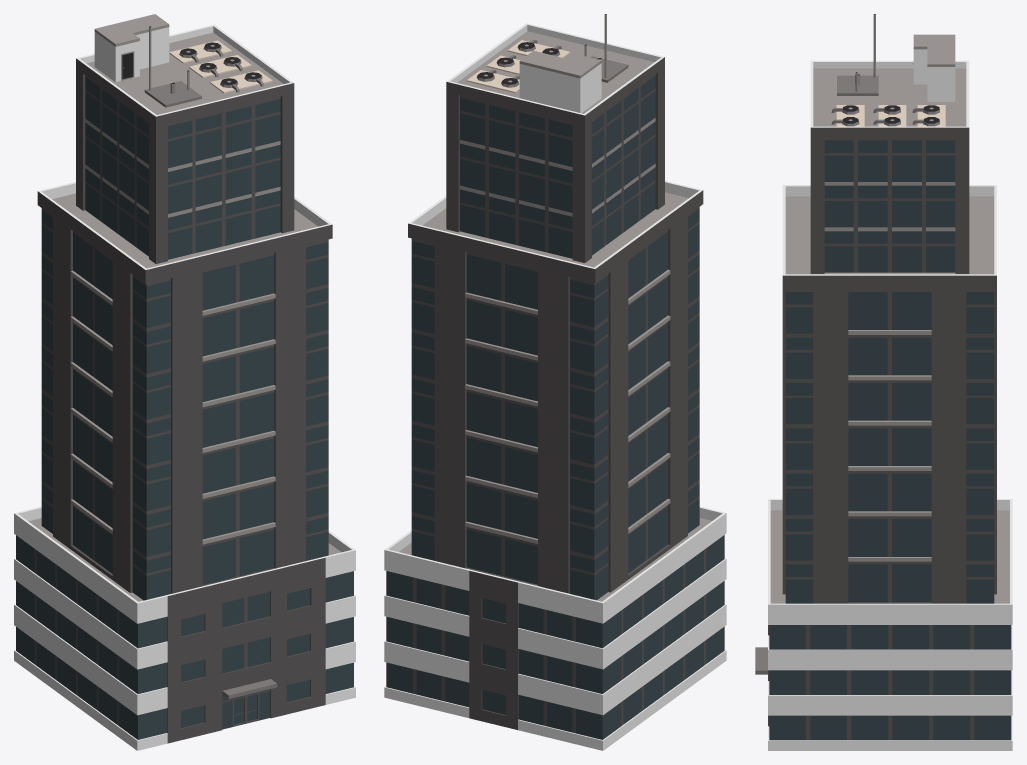
File: buildings_building-office-pyramid.fbx
3 renders of one model, left to right at view 1: azimuth 30°, elevation 25°; view 2: azimuth 150°, elevation 25°; view 3: azimuth 270°, elevation 25°, orthographic.
Parts seen in each view (by area): view 1: buildings_building_office_pyramid; view 2: buildings_building_office_pyramid; view 3: buildings_building_office_pyramid.
Boxes of the visible parts, box(x1,y1,x2,y2) form: buildings_building_office_pyramid: box(14, 14, 355, 750); buildings_building_office_pyramid: box(384, 14, 726, 750); buildings_building_office_pyramid: box(755, 14, 1012, 750).
Bounding box in the file's own units: 68.44 × 200 × 70.34.
